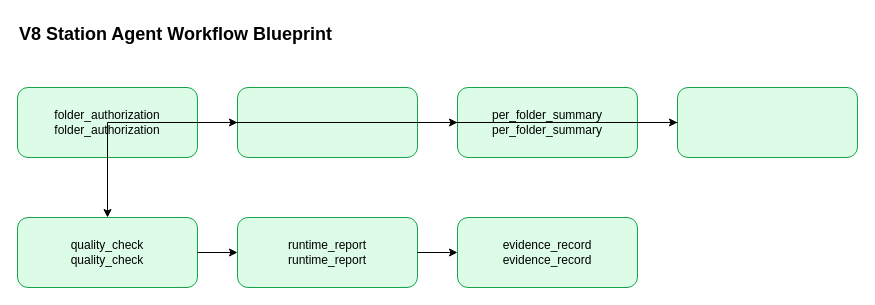
The diagram is 875 pixels wide and 305 high, and some of its shapes have lost their labels. The shapes that lost their labels are listed below. From the top down, each one's centre as x and y in pixels, then its label:
At point (327, 122): "markdown_scan markdown_scan".
At point (767, 122): "overview_summary overview_summary".
